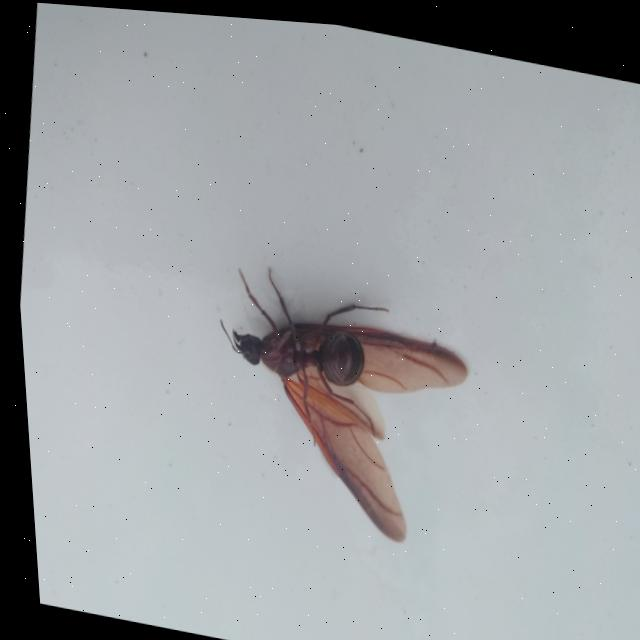Dead-Female-Alate: (186, 250, 481, 564)
